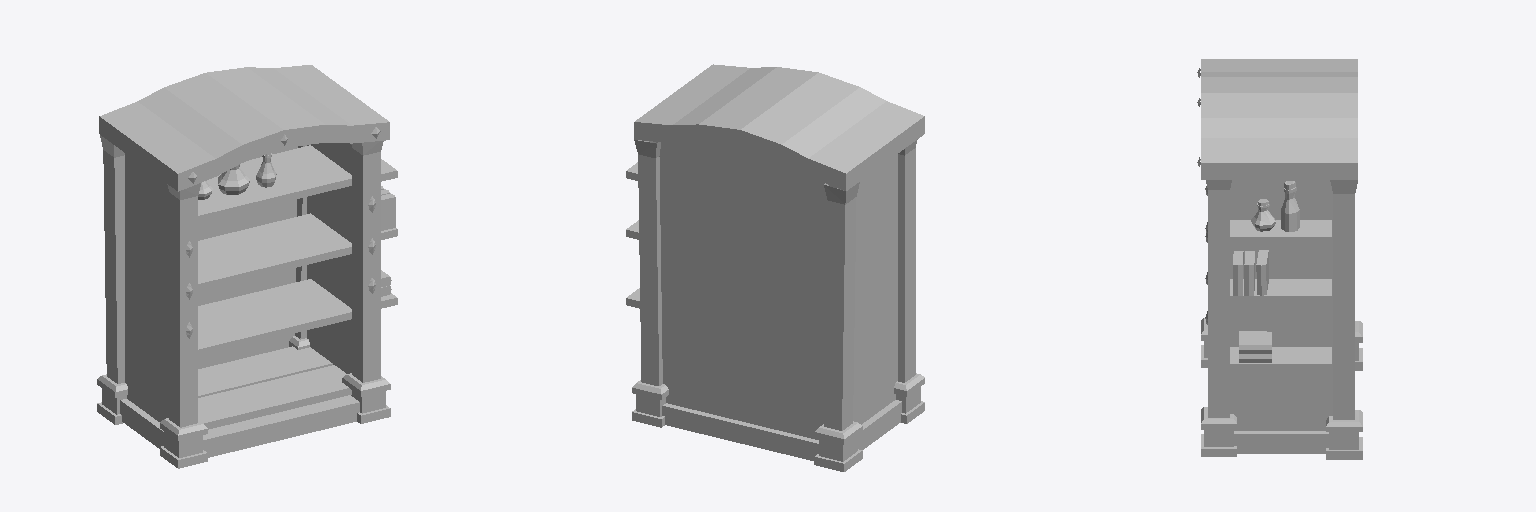
Rendered from wardrobe.obj.
3 views of the same model, side by side, from view 1: azimuth 30°, elevation 25°; view 2: azimuth 150°, elevation 25°; view 3: azimuth 270°, elevation 25° (orthographic).
Visible parts, largest first — view 1: Cube; view 2: Cube; view 3: Cube.
Part boxes in pixels (x1,y1,x2,y2): Cube: (97,65,397,468); Cube: (626,64,924,471); Cube: (1197,59,1362,459).
Bounding box in the file's own units: 0.8667 × 1.11 × 0.5276.